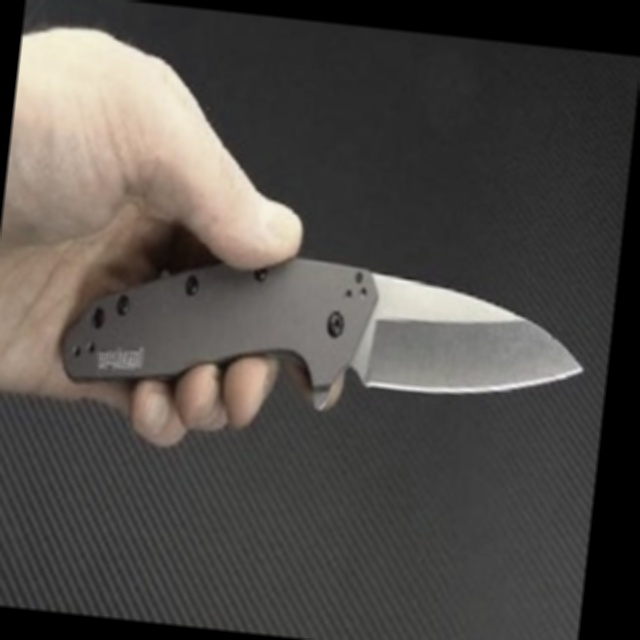Sharp-Object: (56, 236, 590, 438)
